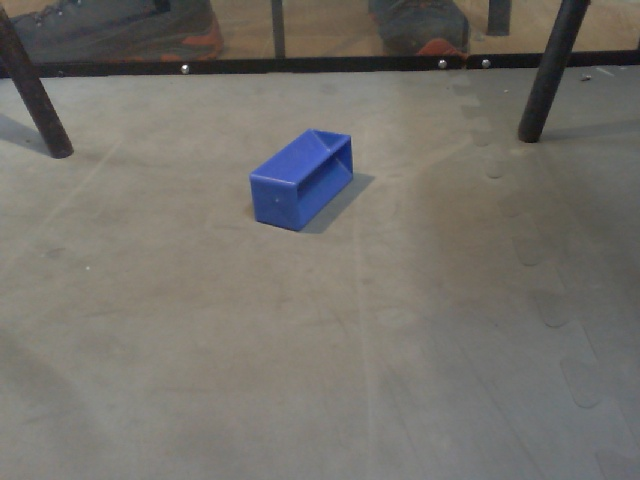BlueSample: (246, 126, 355, 236)
